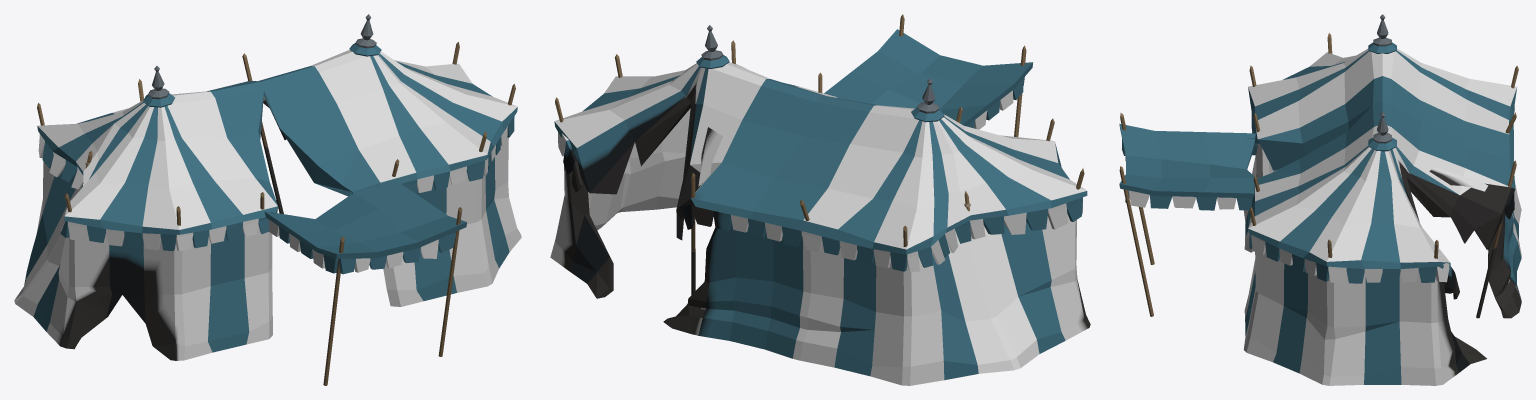
Rendered from kingdom_SM_Bld_Tent_Large_01_Burnt.gltf.
3 renders of one model, left to right at view 1: azimuth 30°, elevation 25°; view 2: azimuth 150°, elevation 25°; view 3: azimuth 270°, elevation 25°, orthographic. The views are drawn at different scales.
Visible parts, largest first — view 1: SM_Bld_Tent_Large_01_Burnt; view 2: SM_Bld_Tent_Large_01_Burnt; view 3: SM_Bld_Tent_Large_01_Burnt.
Part boxes in pixels (x1,y1,x2,y2): SM_Bld_Tent_Large_01_Burnt: [14, 14, 521, 385]; SM_Bld_Tent_Large_01_Burnt: [550, 14, 1090, 385]; SM_Bld_Tent_Large_01_Burnt: [1119, 14, 1521, 385].
Size of the model in its own units: 9.68 by 4.87 by 7.75.
Materials: 1 (1 with a texture image).
